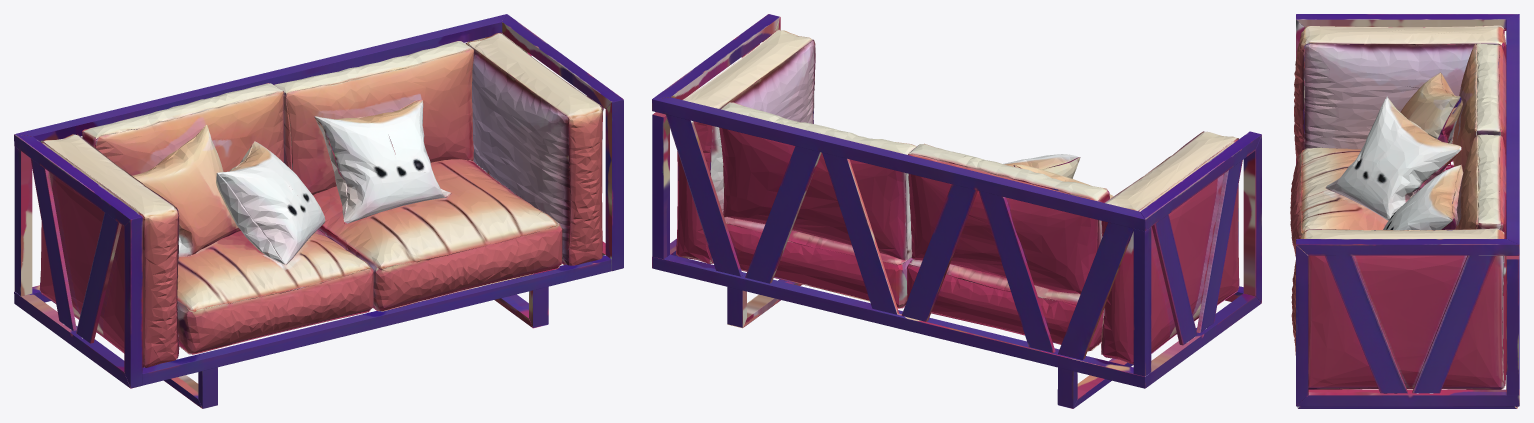
The model's file is edited_mesh.glb.
The picture shows the model from 3 angles, left to right: view 1: azimuth 30°, elevation 25°; view 2: azimuth 150°, elevation 25°; view 3: azimuth 270°, elevation 25°; orthographic projection. The views are drawn at different scales.
Parts seen in each view (by area): view 1: solid_001_wire; view 2: solid_001_wire; view 3: solid_001_wire.
Boxes of the visible parts, x1,y1,x2,y2 form: solid_001_wire: (14, 14, 623, 408); solid_001_wire: (652, 14, 1261, 408); solid_001_wire: (1290, 14, 1519, 408).
Bounding box in the file's own units: 2 × 0.8164 × 0.8409.
Materials: 1 (1 with a texture image).
